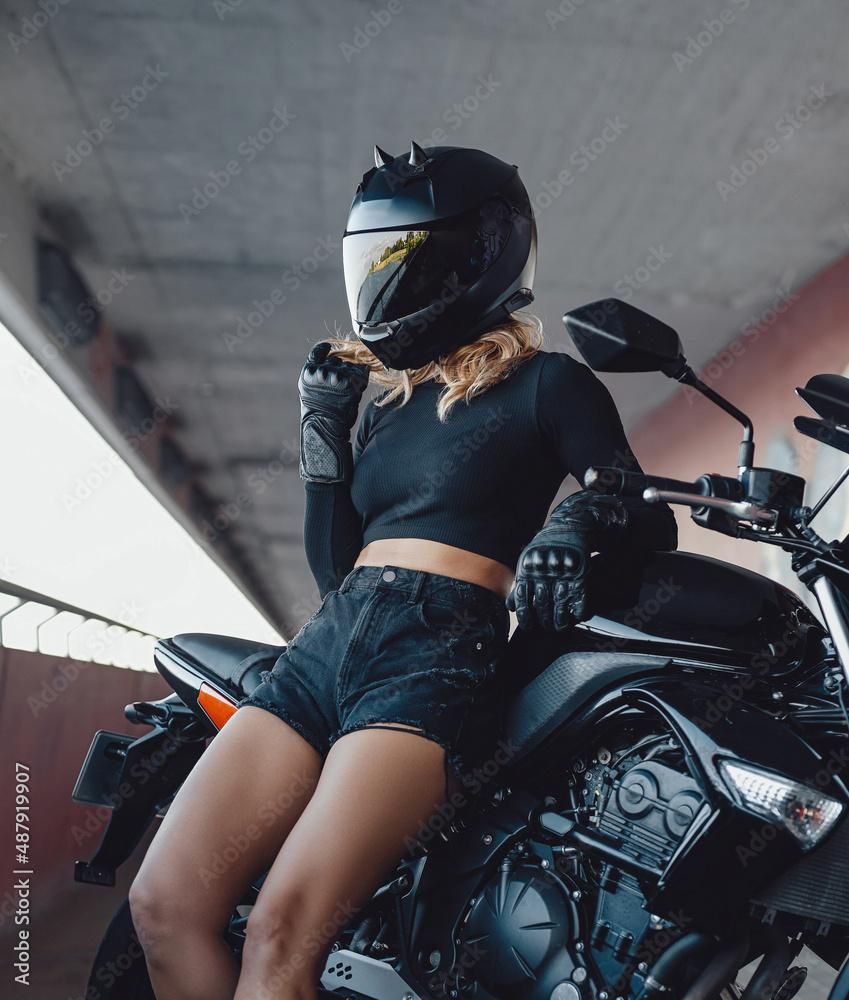helmet: (341, 138, 540, 374)
